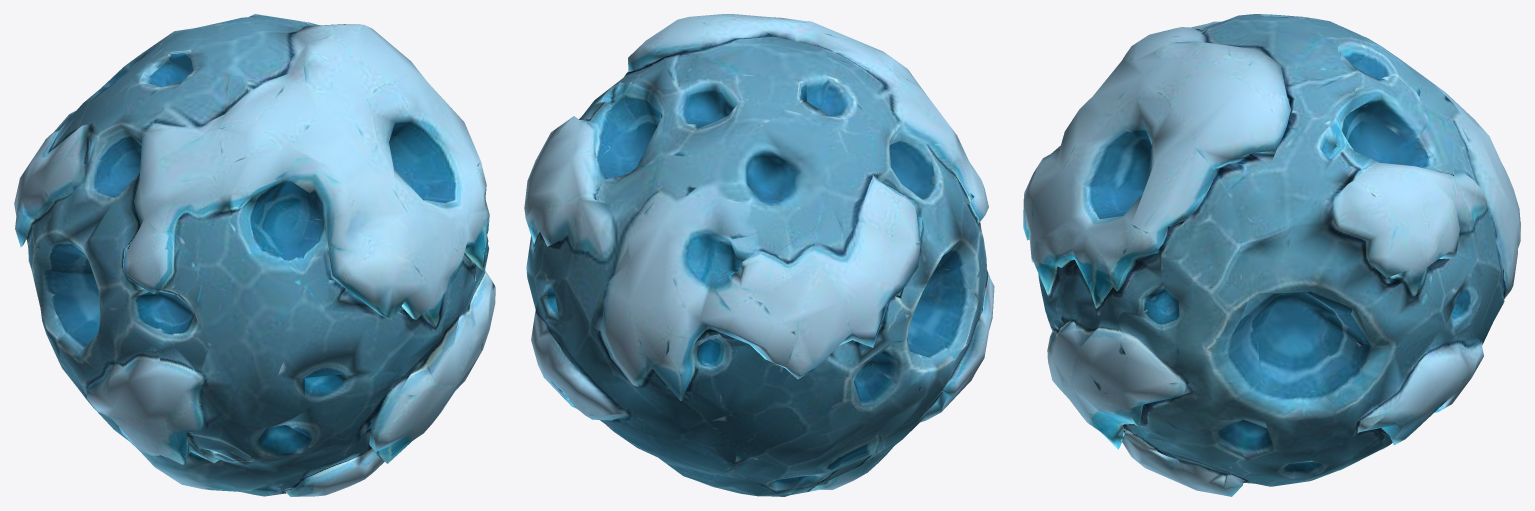
File: asteroid-icy.glb
3 views of the same model, side by side, from view 1: azimuth 30°, elevation 25°; view 2: azimuth 150°, elevation 25°; view 3: azimuth 270°, elevation 25° (orthographic).
Size of the model in its own units: 1.72 by 1.89 by 1.89.
Materials: 1 (1 with a texture image).
